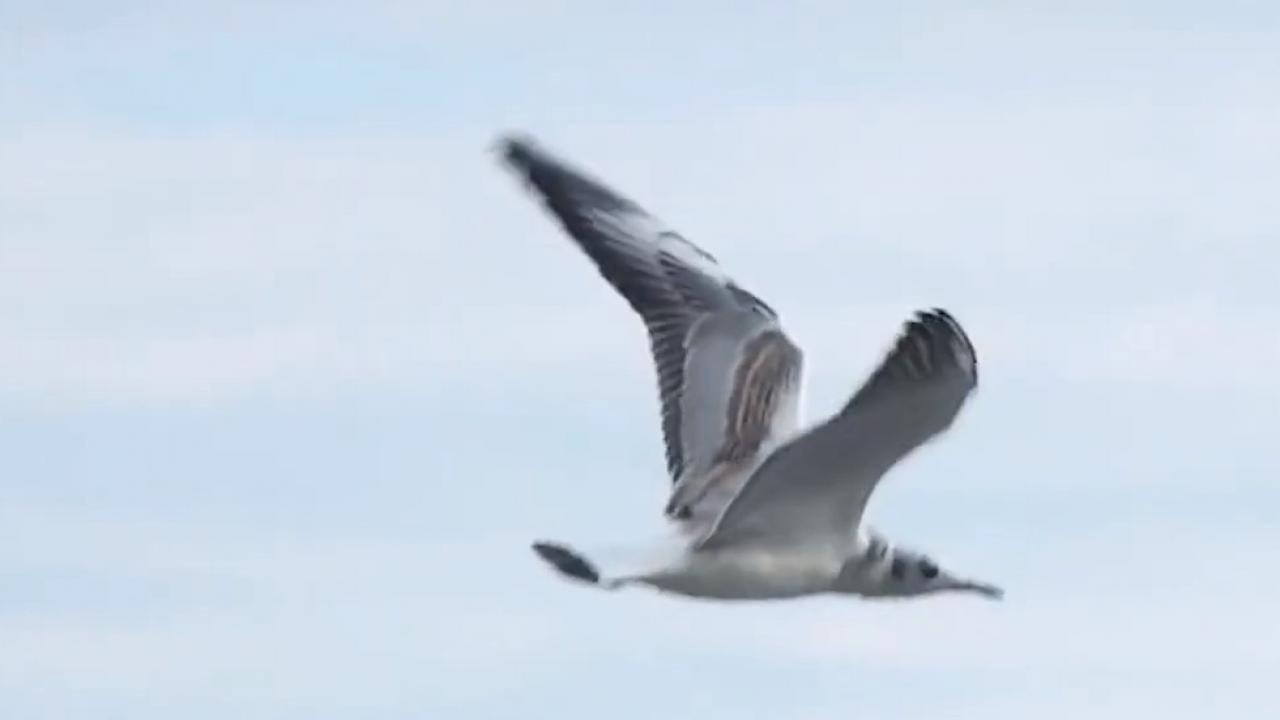Bird: (473, 121, 1021, 620)
